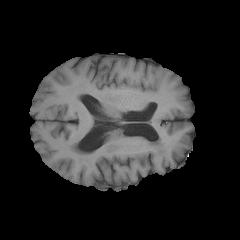glioma: (76, 137, 166, 167)
